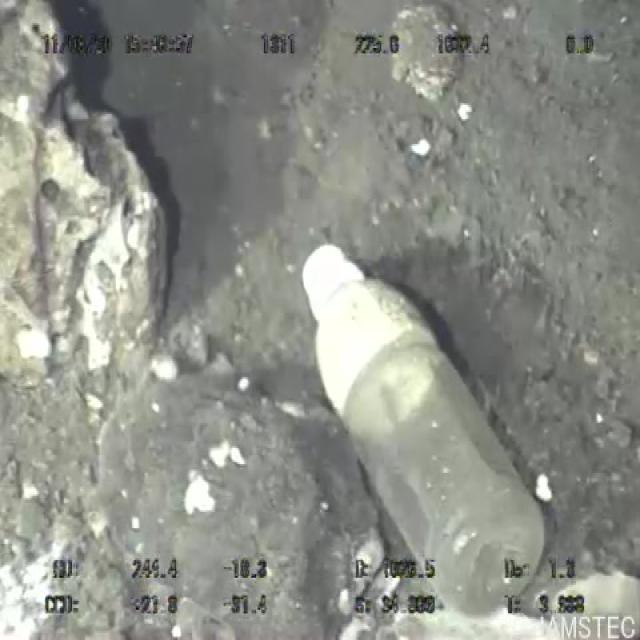plastic: (298, 237, 550, 628)
